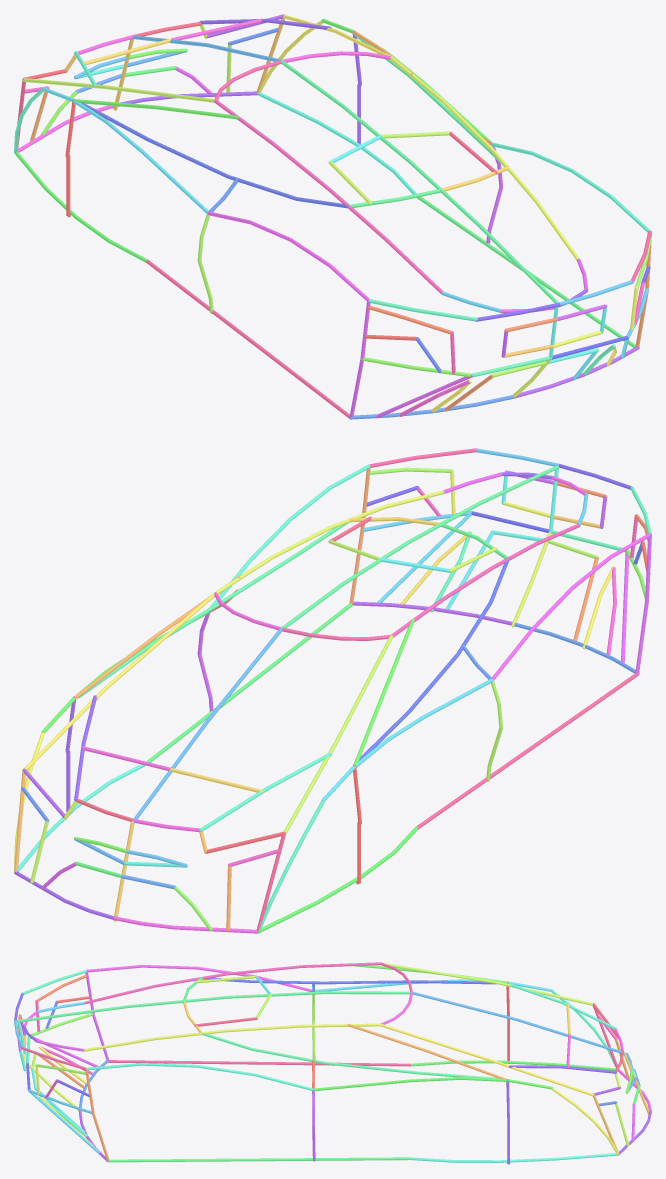
The model's file is ils_car3.gltf.
The picture shows the model from 3 angles, top to bottom: view 1: azimuth 30°, elevation 25°; view 2: azimuth 150°, elevation 25°; view 3: azimuth 270°, elevation 25°; orthographic projection. The views are drawn at different scales.
Bounding box in the file's own units: 0.3617 × 0.1956 × 0.9178.
